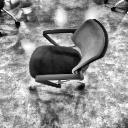chair_success: (27, 18, 112, 93)
